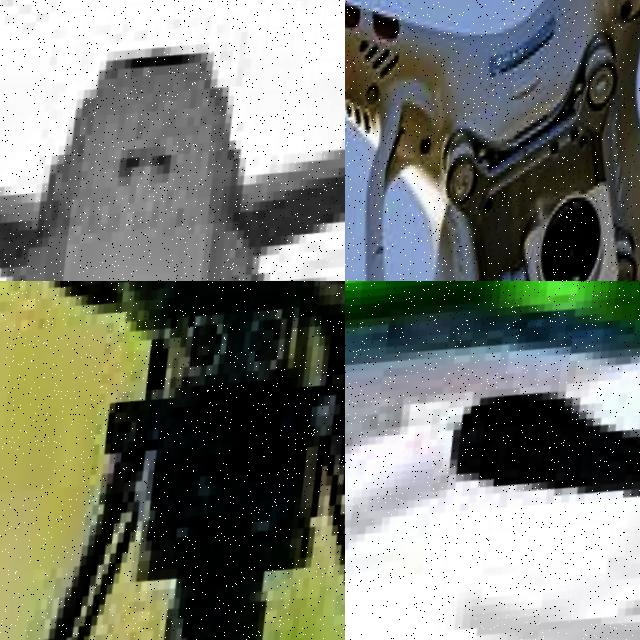drone: (0, 281, 345, 640), (345, 281, 640, 640), (0, 0, 345, 281), (345, 0, 640, 281)
